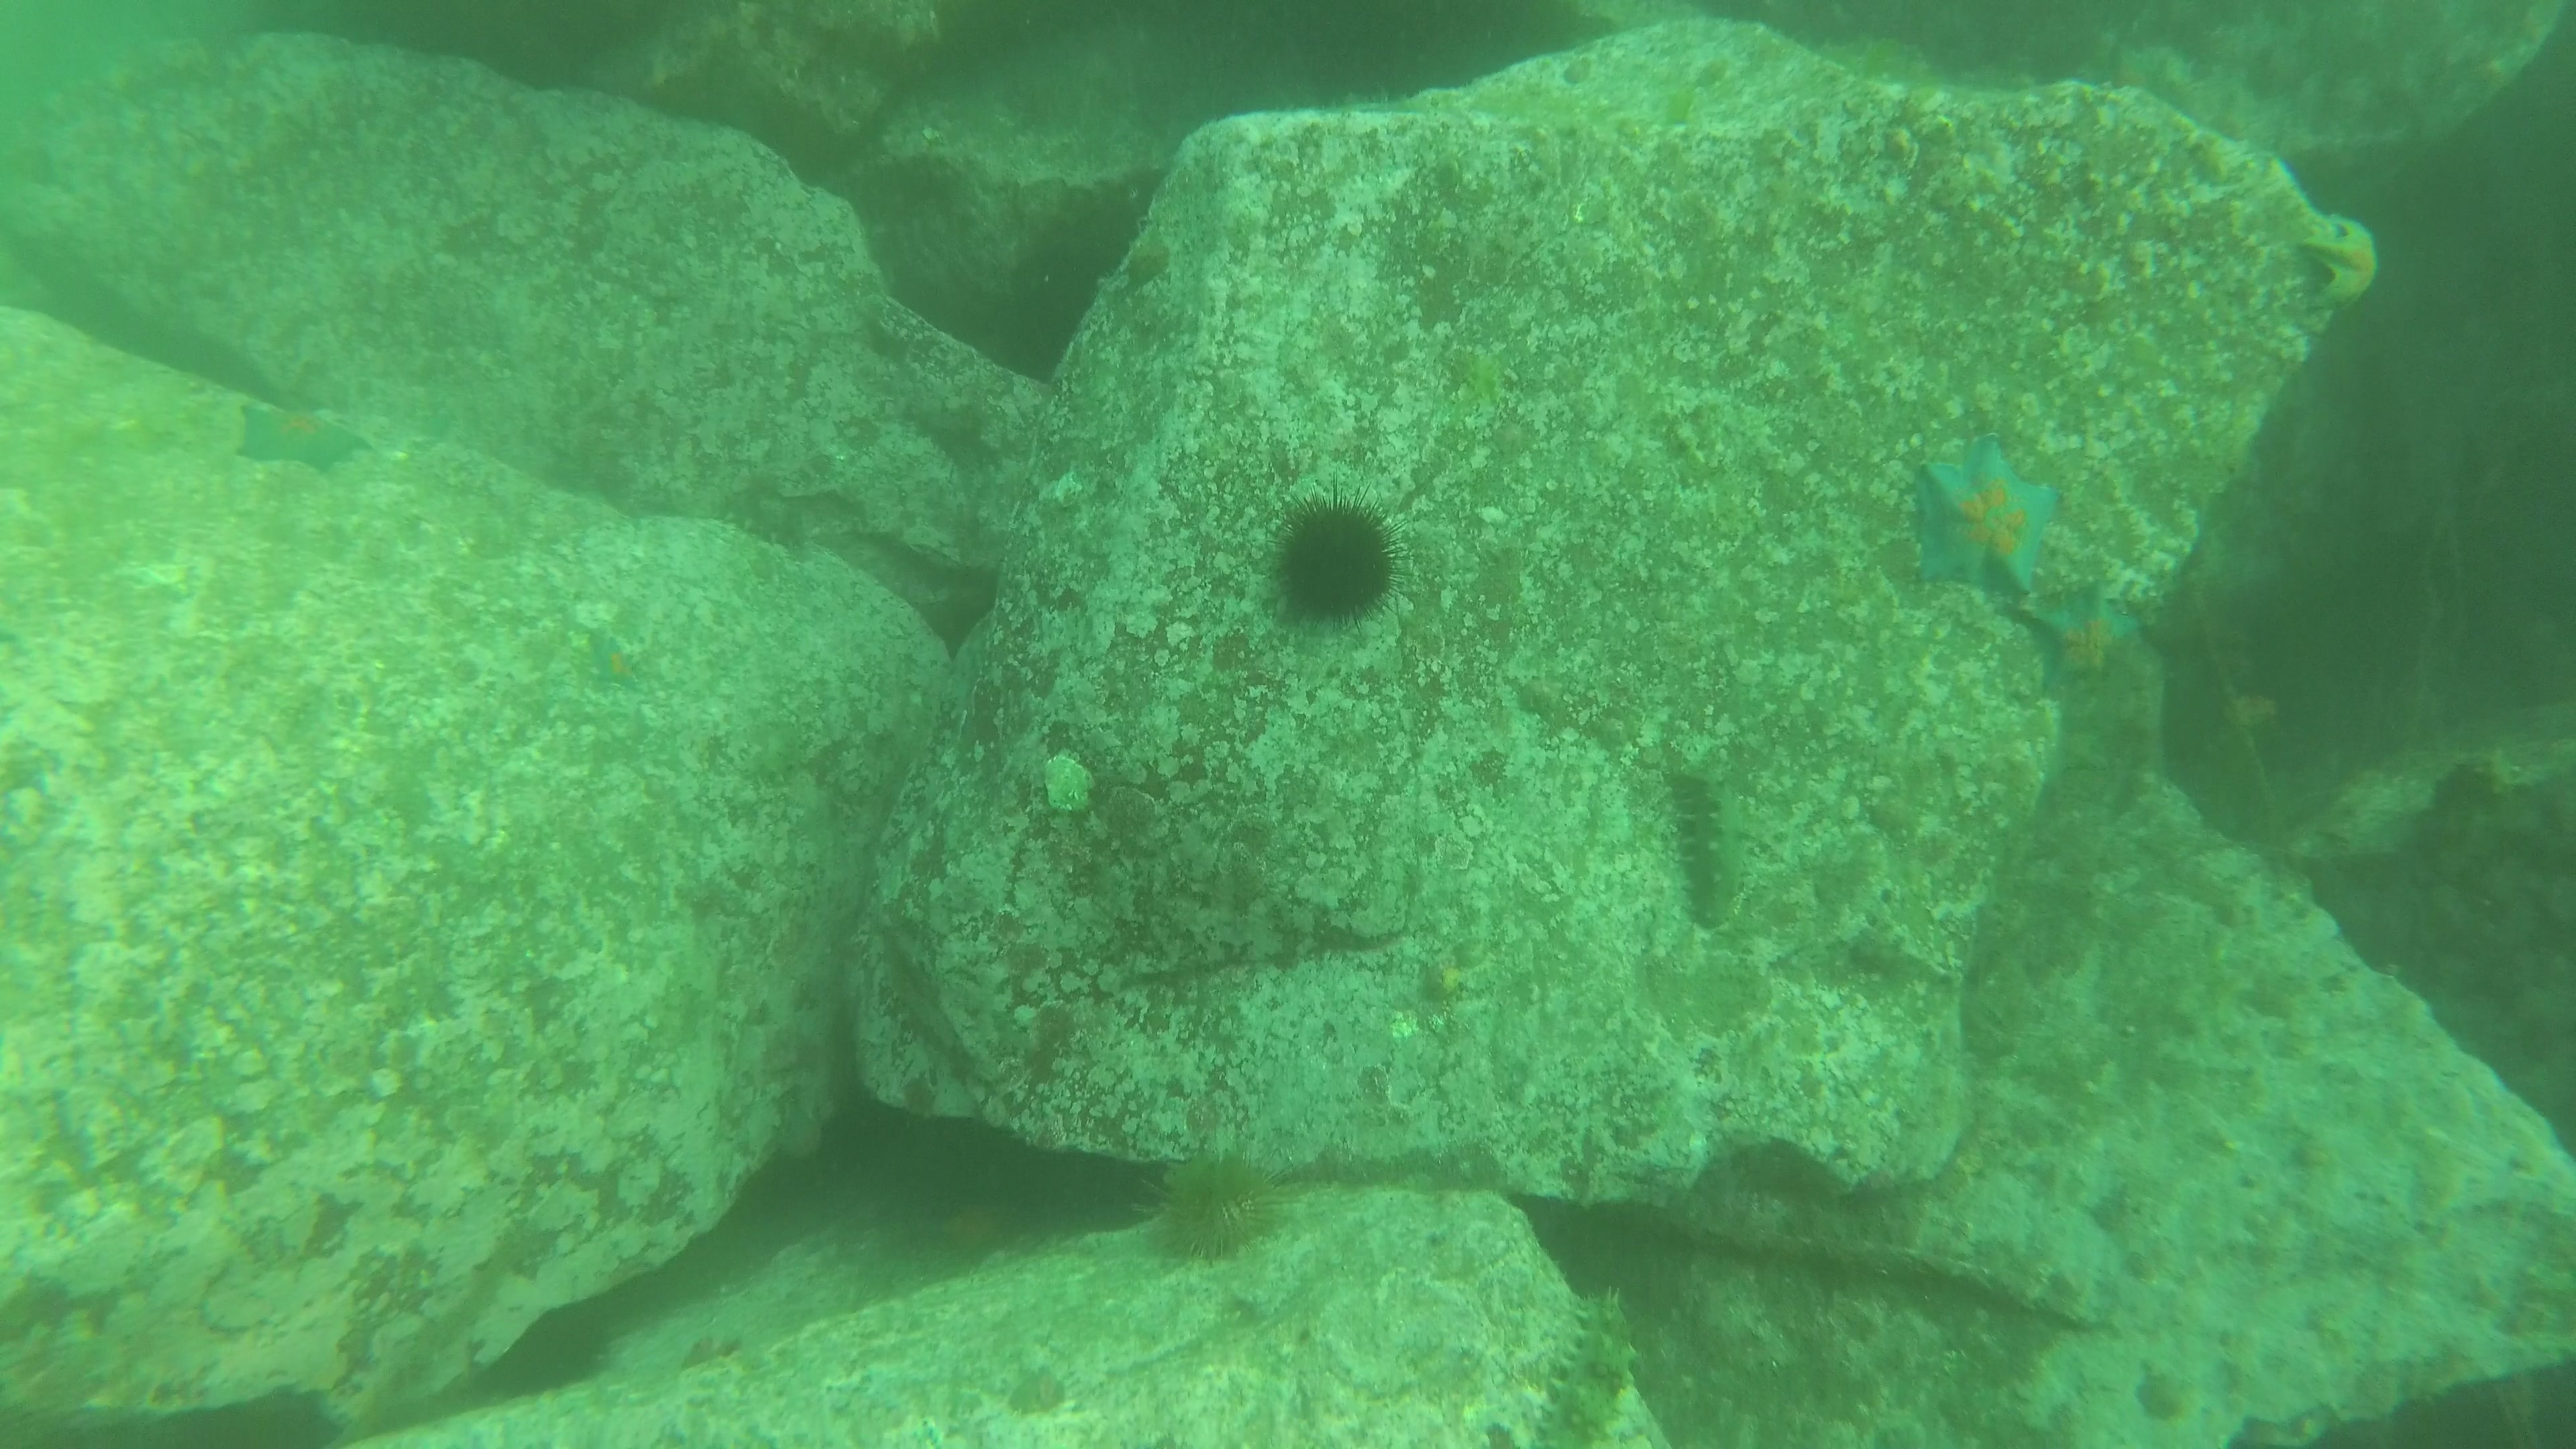echinus: (1263, 474, 1417, 635), (1141, 1141, 1302, 1267)
holothurian: (1536, 1284, 1640, 1449), (1672, 761, 1759, 931)
starfish: (1913, 425, 2058, 600), (2024, 573, 2143, 695), (230, 398, 377, 478), (2305, 211, 2380, 315), (1122, 225, 1175, 294), (589, 633, 644, 692), (932, 1214, 1005, 1256)
